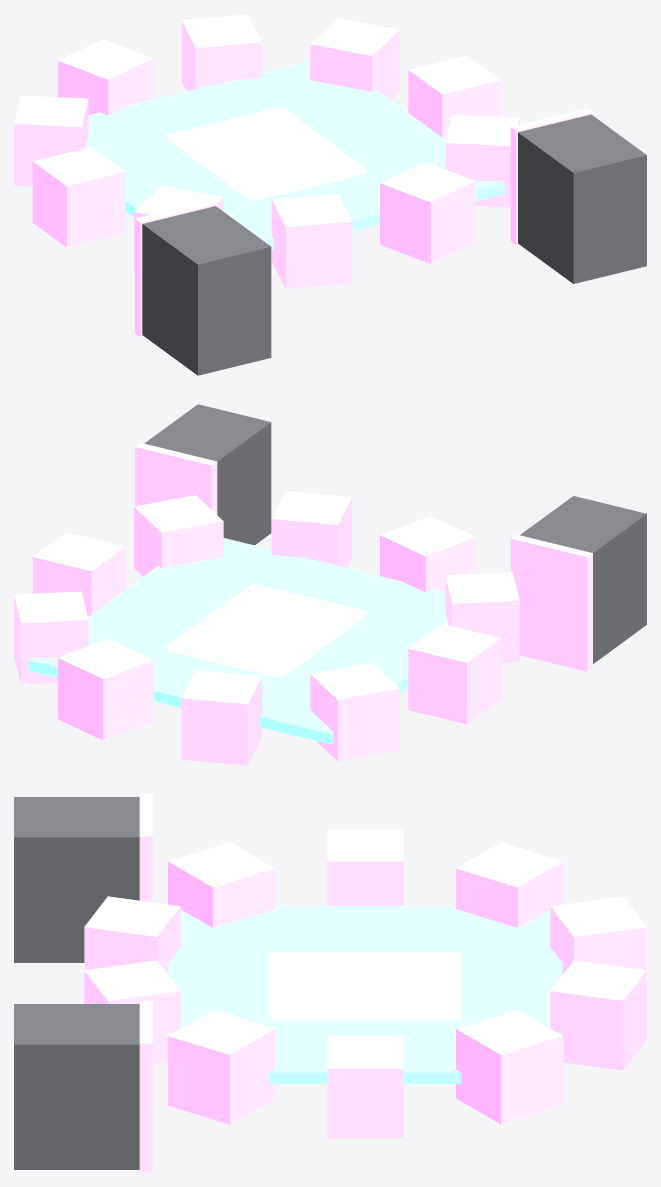
File: hyperspace_portal.glb
The picture shows the model from 3 angles, top to bottom: view 1: azimuth 30°, elevation 25°; view 2: azimuth 150°, elevation 25°; view 3: azimuth 270°, elevation 25°; orthographic projection. The views are drawn at different scales.
Parts seen in each view (by area): view 1: Inner, BaseL, BaseR, Core, R8, R5, R7, R1, R3, R0, R2, R4 (+4 smaller); view 2: Inner, Core, BaseL, TrimL, BaseR, R2, R5, R4, R3, R9, R7, R0 (+4 smaller); view 3: Inner, BaseR, BaseL, Core, R1, R9, R2, R0, R4, R6, R3, R5 (+4 smaller).
Boxes of the visible parts, box(x1,y1,x2,y2) form: Inner: box(85, 61, 505, 250); BaseL: box(142, 206, 271, 375); BaseR: box(518, 114, 646, 283); Core: box(167, 106, 366, 201); R8: box(380, 162, 475, 263); R5: box(32, 147, 125, 247); R7: box(271, 193, 352, 288); R1: box(310, 18, 399, 99); R3: box(58, 39, 153, 115); R0: box(408, 55, 500, 139); R2: box(181, 14, 261, 91); R4: box(14, 95, 88, 186); Inner: box(28, 538, 448, 744); Core: box(167, 583, 366, 678); BaseL: box(520, 496, 646, 663); TrimL: box(510, 534, 592, 671); BaseR: box(144, 404, 271, 545); R2: box(58, 638, 153, 740); R5: box(408, 624, 500, 724); R4: box(310, 662, 399, 761); R3: box(181, 670, 261, 765); R9: box(134, 495, 223, 576); R7: box(380, 516, 475, 592); R0: box(32, 532, 125, 616); Inner: box(168, 906, 562, 1084); BaseR: box(14, 1004, 139, 1169); BaseL: box(14, 797, 139, 962); Core: box(269, 952, 461, 1020); R1: box(456, 1010, 563, 1124); R9: box(168, 1010, 274, 1124); R2: box(550, 960, 646, 1070); R0: box(327, 1036, 403, 1137); R4: box(456, 842, 563, 927); R6: box(168, 842, 274, 927); R3: box(550, 896, 646, 974); R5: box(327, 829, 403, 905).
Size of the model in its own units: 2.77 by 0.67 by 2.97.
